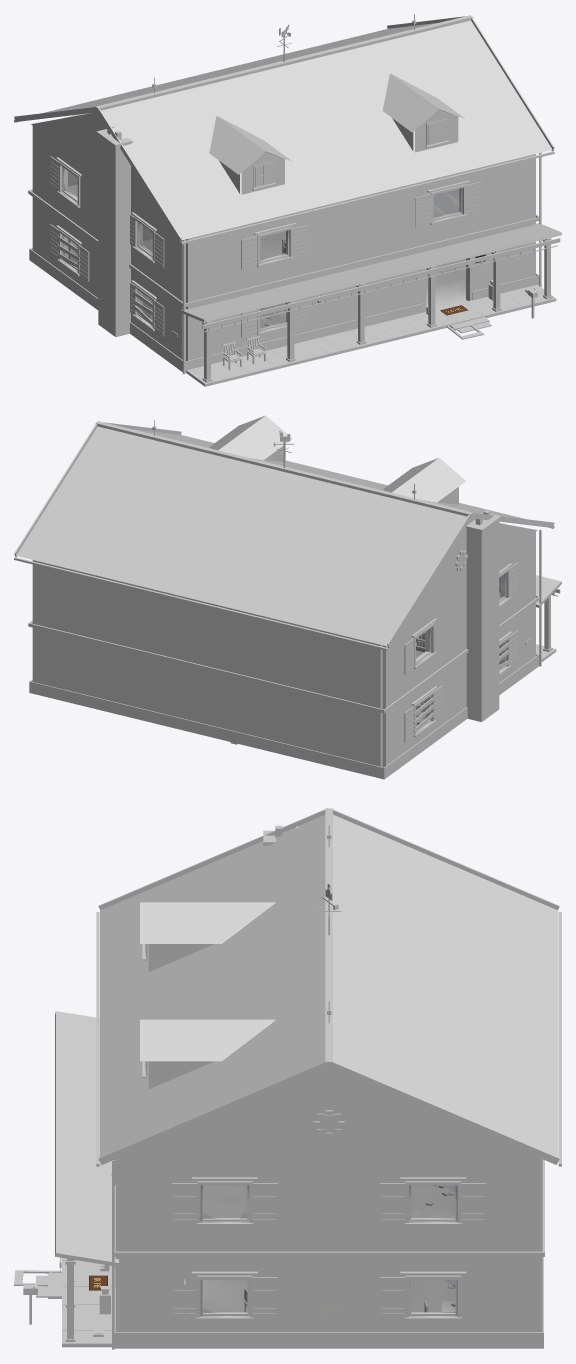
The model's file is farmhouse.glb.
3 renders of one model, top to bottom at view 1: azimuth 30°, elevation 25°; view 2: azimuth 150°, elevation 25°; view 3: azimuth 270°, elevation 25°, orthographic. The views are drawn at different scales.
Parts seen in each view (by area): view 1: farmhouse; view 2: farmhouse; view 3: farmhouse.
Part boxes in pixels (<box>): farmhouse: <box>14,14,561,386</box>; farmhouse: <box>14,415,561,779</box>; farmhouse: <box>14,808,561,1349</box>.
Size of the model in its own units: 17.55 by 11.16 by 15.79.
4 materials, 3 textured.
